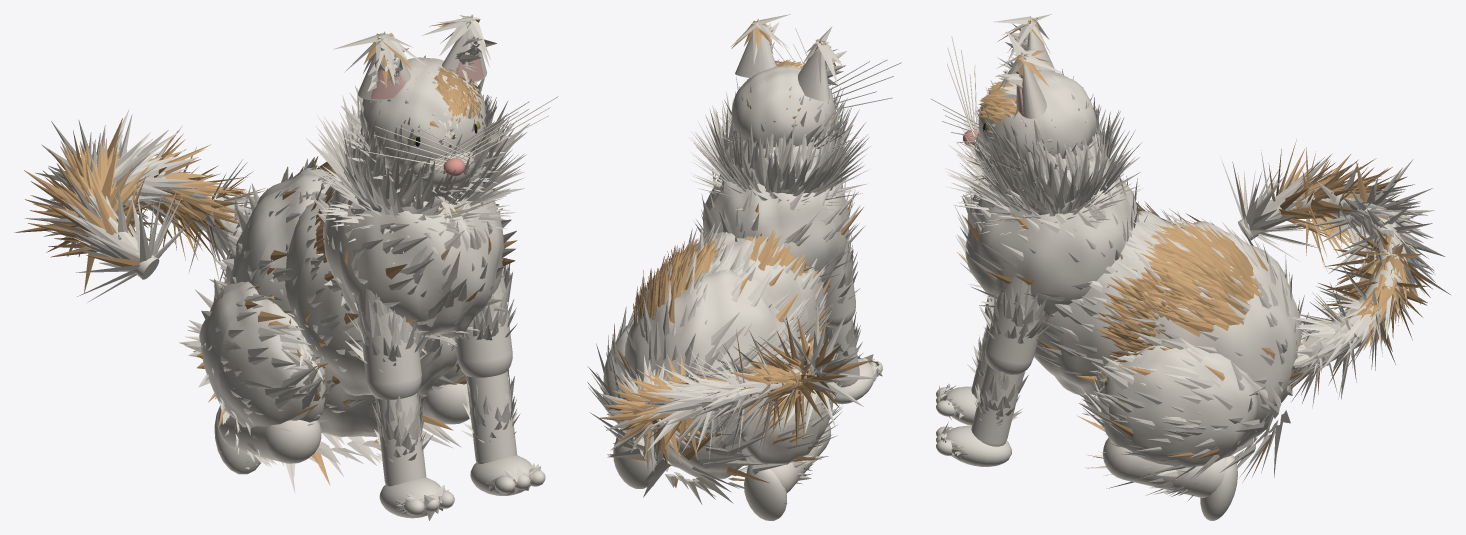
File: hercules.pro.glb
The picture shows the model from 3 angles, left to right: view 1: azimuth 30°, elevation 25°; view 2: azimuth 150°, elevation 25°; view 3: azimuth 270°, elevation 25°; orthographic projection. The views are drawn at different scales.
Visible parts, largest first — view 1: chest, thigh_R, haunches, torso, skull, coat_chest_white, coat_thigh_R_white, upperFrontLeg_R, shin_R, lowerFrontLeg_L, upperFrontLeg_L, coat_foreleg_R_white (+15 smaller); view 2: haunches, chest, coat_rump_white, skull, thigh_R, coat_rumpPatch_tan, torso, coat_chest_white, coat_back_white, hindPaw_R, upperFrontLeg_R, hindPaw_L (+14 smaller); view 3: chest, thigh_L, coat_rumpPatch_tan, haunches, torso, coat_thigh_L_white, skull, coat_rump_white, coat_chest_white, coat_flankPatch_tan, coat_back_white, shin_L (+11 smaller).
Boxes of the visible parts, left/top/right/bottom form: chest: left=323, top=181, right=503, bottom=340; thigh_R: left=199, top=281, right=325, bottom=427; haunches: left=224, top=167, right=428, bottom=437; torso: left=285, top=186, right=457, bottom=395; skull: left=360, top=57, right=486, bottom=167; coat_chest_white: left=312, top=165, right=516, bottom=352; coat_thigh_R_white: left=179, top=278, right=335, bottom=447; upperFrontLeg_R: left=357, top=287, right=421, bottom=399; shin_R: left=217, top=408, right=321, bottom=463; lowerFrontLeg_L: left=466, top=371, right=517, bottom=464; upperFrontLeg_L: left=455, top=269, right=512, bottom=377; coat_foreleg_R_white: left=345, top=283, right=431, bottom=372; haunches: left=624, top=258, right=800, bottom=479; chest: left=703, top=177, right=849, bottom=286; coat_rump_white: left=606, top=243, right=807, bottom=463; skull: left=731, top=65, right=835, bottom=148; thigh_R: left=738, top=342, right=833, bottom=464; coat_rumpPatch_tan: left=633, top=237, right=725, bottom=327; torso: left=694, top=232, right=824, bottom=343; coat_chest_white: left=693, top=166, right=865, bottom=293; coat_back_white: left=682, top=222, right=839, bottom=335; hindPaw_R: left=744, top=467, right=786, bottom=520; upperFrontLeg_R: left=823, top=239, right=855, bottom=327; hindPaw_L: left=613, top=432, right=655, bottom=488; chest: left=965, top=174, right=1139, bottom=318; thigh_L: left=1101, top=345, right=1257, bottom=467; coat_rumpPatch_tan: left=1127, top=220, right=1262, bottom=336; haunches: left=1083, top=221, right=1302, bottom=447; torso: left=1034, top=211, right=1174, bottom=395; coat_thigh_L_white: left=1079, top=338, right=1252, bottom=482; skull: left=978, top=70, right=1096, bottom=163; coat_rump_white: left=1072, top=209, right=1311, bottom=439; coat_chest_white: left=955, top=169, right=1147, bottom=307; coat_flankPatch_tan: left=1095, top=267, right=1174, bottom=362; coat_back_white: left=1034, top=201, right=1183, bottom=380; shin_L: left=1102, top=437, right=1225, bottom=497.
Bounding box in the file's own units: 0.4266 × 0.5641 × 0.5832.
